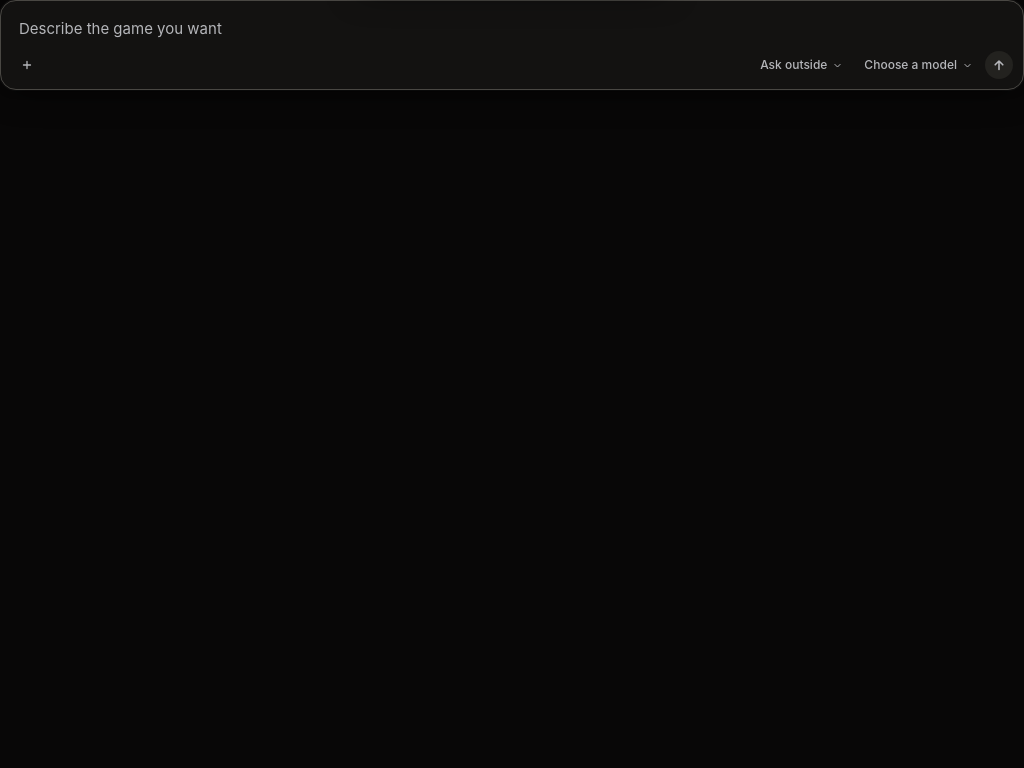
Scenario: skip is confirmed once per project › leaves the project where it was when the dialog is cancelled
Click the button with aria-label "Permissions": x=801, y=65 x1=751 y1=51 x2=851 y2=79
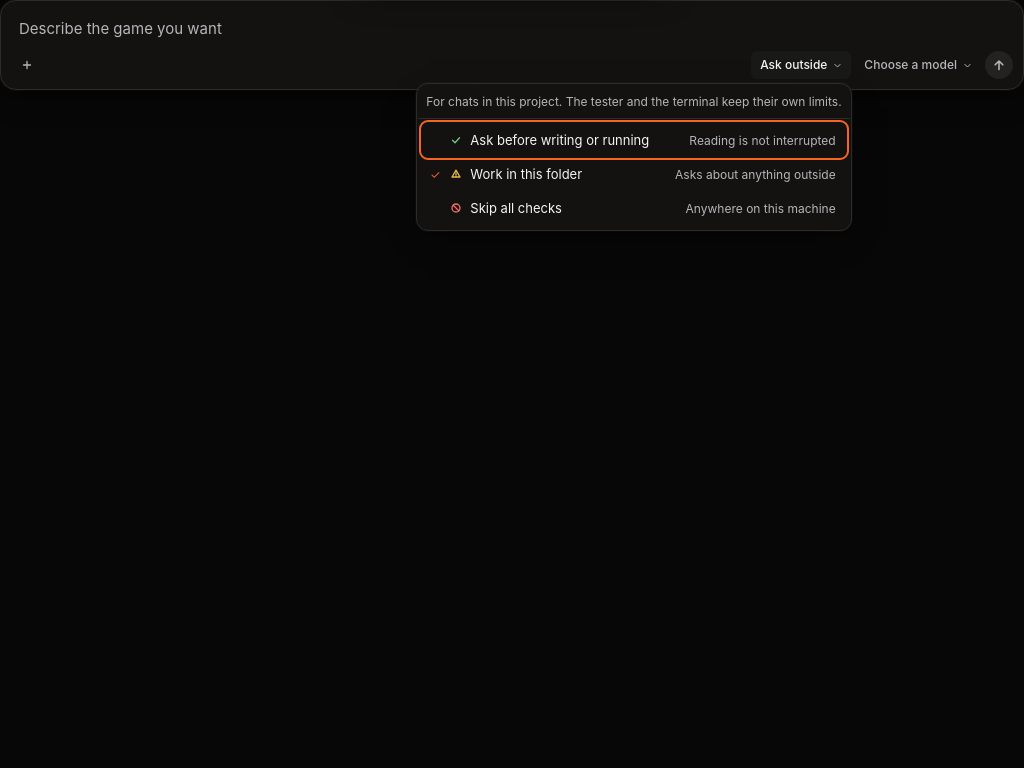
Click the menu item "Skip all checks Anywhere on this machine": x=516, y=208 x1=422 y1=191 x2=846 y2=225
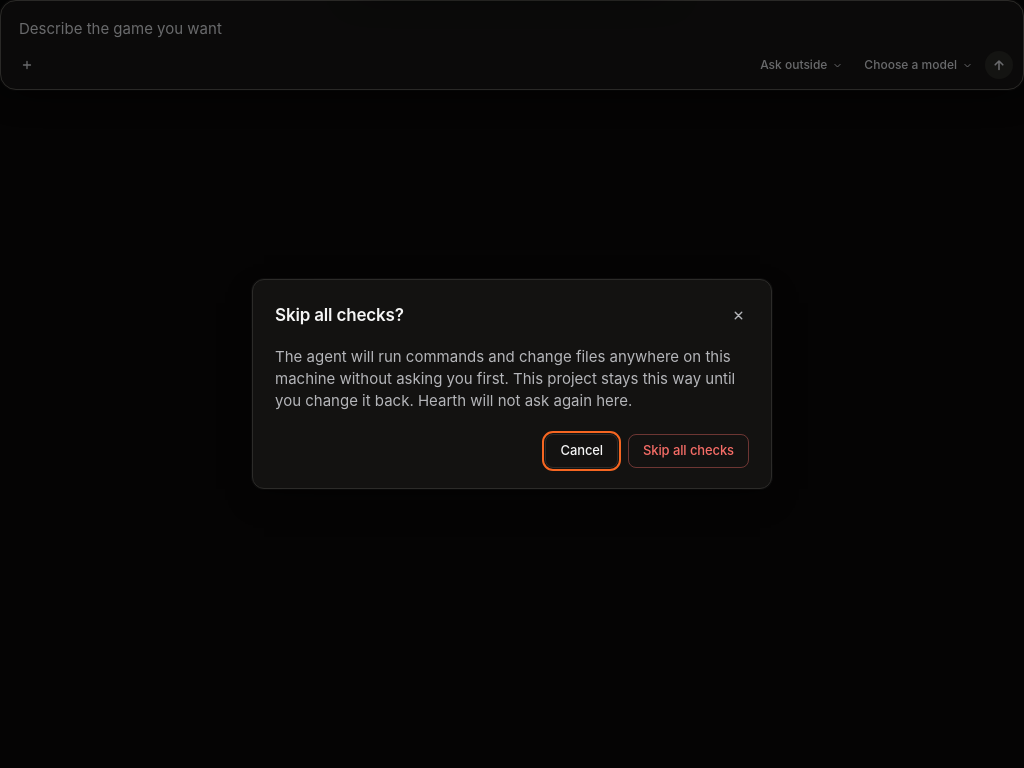
Click the button "Cancel": x=582, y=451 x1=546 y1=434 x2=618 y2=468
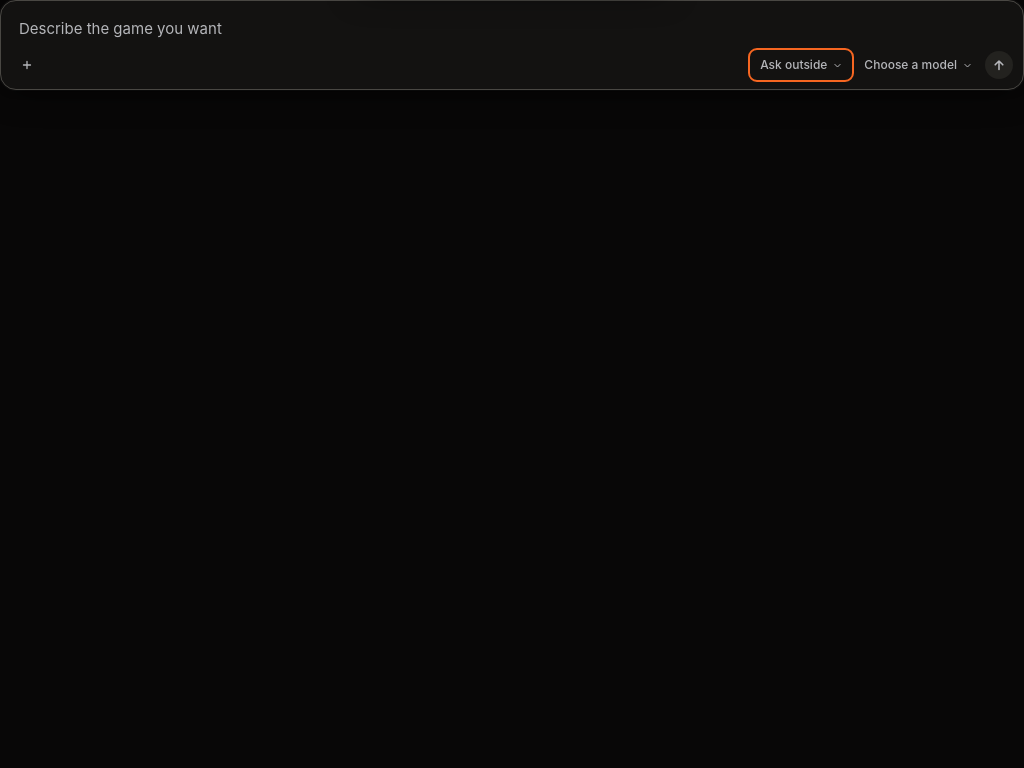
Result: the text "Skip all checks?" is gone
